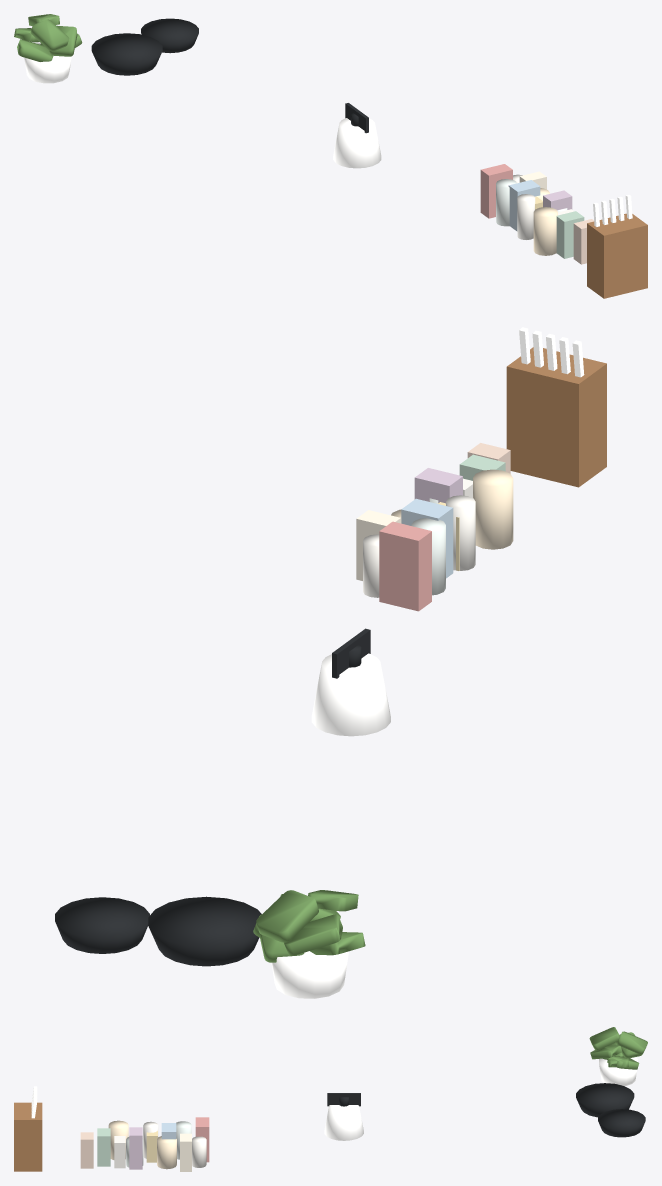
File: Kitchen_Counter_Items.glb
3 renders of one model, top to bottom at view 1: azimuth 30°, elevation 25°; view 2: azimuth 150°, elevation 25°; view 3: azimuth 270°, elevation 25°, orthographic. The views are drawn at different scales.
Parts seen in each view (by area): view 1: root; view 2: root; view 3: root.
Part boxes in pixels (x1,y1,x2,y2): root: (14, 14, 647, 298); root: (55, 327, 606, 998); root: (14, 1027, 647, 1171).
Bounding box in the file's own units: 1.13 × 0.3476 × 2.88.
